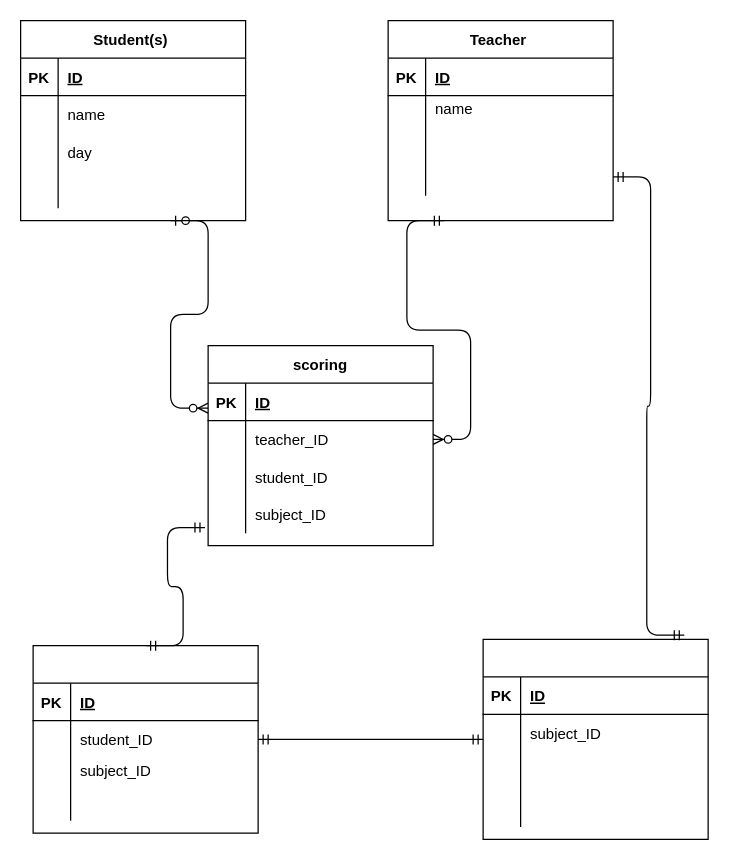
This 729x860 diagram has some shape labels left out. The shapes that lost their labels are listed below. From the top down, each one's box as (x1, y1, x2, y2) in pixels, then its label:
(32, 644, 258, 833): result
(482, 638, 708, 839): coment
